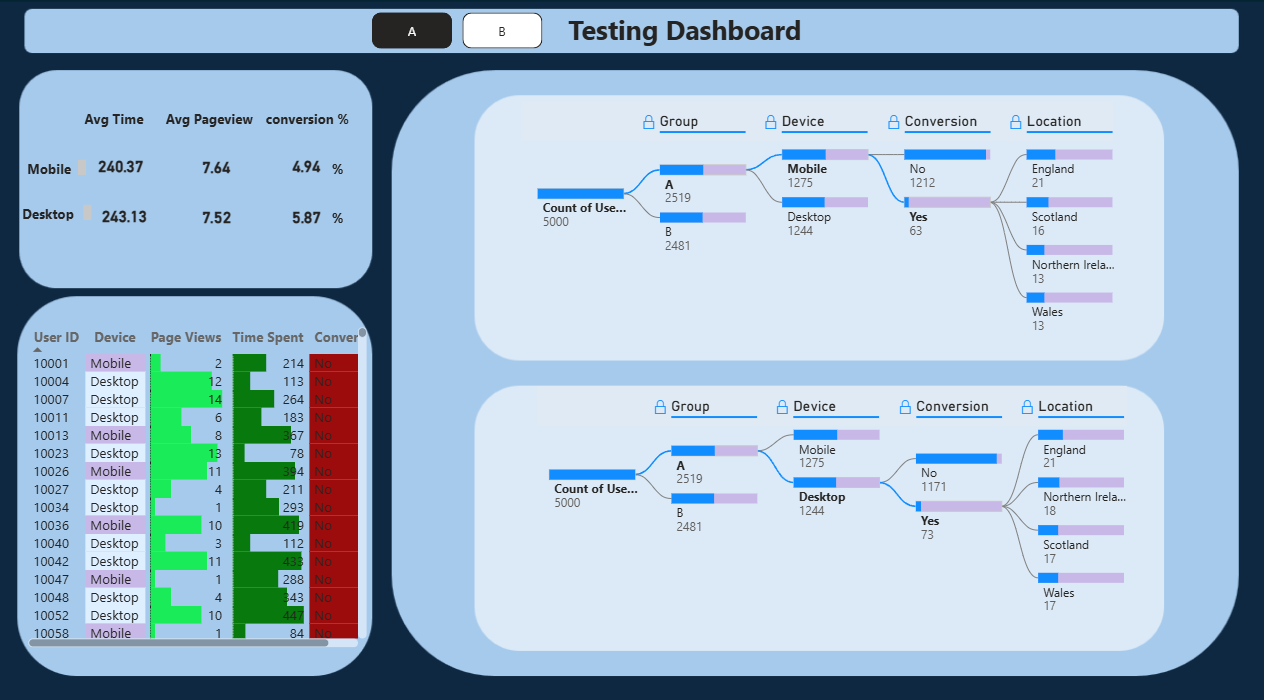

This screenshot's page, from the dashboard's own definition file:
{"tool":"powerbi","page":{"name":"A","canvas":[1280,720],"ordinal":0},"visuals":[{"type":"image","box":[0,0,1279.7,719.9],"z":0},{"type":"decompositionTreeVisual","fields":{"Analyze":["CountNonNull(ab_testing (2).User ID)"],"ExplainBy":["ab_testing (2).Group","ab_testing (2).Device","ab_testing (2).Conversion","ab_testing (2).Location"]},"box":[525.2,101,601.6,258.3],"z":1000},{"type":"decompositionTreeVisual","fields":{"Analyze":["CountNonNull(ab_testing (2).User ID)"],"ExplainBy":["ab_testing (2).Group","ab_testing (2).Device","ab_testing (2).Conversion","ab_testing (2).Location"]},"box":[539.6,386.7,600.2,259.7],"z":2000},{"type":"tableEx","fields":{"Values":["ab_testing (2).User ID","ab_testing (2).Device","Sum(ab_testing (2).Page Views)","Sum(ab_testing (2).Time Spent)","ab_testing (2).Conversion"]},"box":[30,327.5,350,330],"z":3000},{"type":"card","fields":{"Values":["Avg(ab_testing (2).Time Spent)"]},"box":[99.6,147.2,57.7,50.5],"z":4000},{"type":"textbox","box":[88,109.6,80.8,37.5],"z":5000},{"type":"textbox","box":[30.3,160.1,69.3,26],"z":6000},{"type":"card","fields":{"Values":["Avg(ab_testing (2).Page Views)"]},"box":[196.2,154.4,56.3,37.5],"z":7000},{"type":"textbox","box":[168.8,109.6,111.1,37.5],"z":8000},{"type":"card","fields":{"Values":["ab_testing.Conversion Rate"]},"box":[295.4,154.8,39.2,35.6],"z":9000},{"type":"textbox","box":[268.4,109.6,96.7,37.5],"z":10000},{"type":"textbox","box":[24.5,204.9,79.4,26],"z":11000},{"type":"card","fields":{"Values":["Avg(ab_testing (2).Time Spent)"]},"box":[103.9,196.9,57.5,50.1],"z":12000},{"type":"card","fields":{"Values":["Avg(ab_testing (2).Page Views)"]},"box":[196.3,204.8,56.9,37],"z":13000},{"type":"card","fields":{"Values":["ab_testing.Conversion Rate"]},"box":[288.7,206.2,51.2,35.6],"z":14000},{"type":"textbox","box":[335.1,160.2,34.2,30.6],"z":15000},{"type":"textbox","box":[335.1,209.1,29.3,31.8],"z":16000},{"type":"pageNavigator","box":[379.7,17.1,170.7,37],"z":16001},{"type":"textbox","box":[571.7,11.4,254.6,48.4],"z":16002}]}

Visuals, with their boxes in screenshot pixels (x1, y1, x2, y2), scaled from the page's 1280x720 canvas onto the 1264x700 screenshot:
image: (x1=0, y1=0, x2=1263, y2=699)
decompositionTreeVisual - CountNonNull(ab_testing (2).User ID) x ab_testing (2).Group: (x1=519, y1=98, x2=1113, y2=349)
decompositionTreeVisual - CountNonNull(ab_testing (2).User ID) x ab_testing (2).Group: (x1=533, y1=376, x2=1126, y2=628)
tableEx - ab_testing (2).User ID x ab_testing (2).Device: (x1=30, y1=318, x2=375, y2=639)
card - Avg(ab_testing (2).Time Spent): (x1=98, y1=143, x2=155, y2=192)
textbox: (x1=87, y1=107, x2=167, y2=143)
textbox: (x1=30, y1=156, x2=98, y2=181)
card - Avg(ab_testing (2).Page Views): (x1=194, y1=150, x2=249, y2=187)
textbox: (x1=167, y1=107, x2=276, y2=143)
card - ab_testing.Conversion Rate: (x1=292, y1=150, x2=330, y2=185)
textbox: (x1=265, y1=107, x2=361, y2=143)
textbox: (x1=24, y1=199, x2=103, y2=224)
card - Avg(ab_testing (2).Time Spent): (x1=103, y1=191, x2=159, y2=240)
card - Avg(ab_testing (2).Page Views): (x1=194, y1=199, x2=250, y2=235)
card - ab_testing.Conversion Rate: (x1=285, y1=200, x2=336, y2=235)
textbox: (x1=331, y1=156, x2=365, y2=185)
textbox: (x1=331, y1=203, x2=360, y2=234)
pageNavigator: (x1=375, y1=17, x2=544, y2=53)
textbox: (x1=565, y1=11, x2=816, y2=58)
